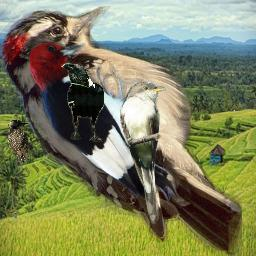Crow: (61, 63, 104, 142)
Cuckoo: (120, 81, 166, 225)
Woodpecker: (0, 6, 242, 256), (30, 40, 183, 205), (8, 119, 34, 164)
